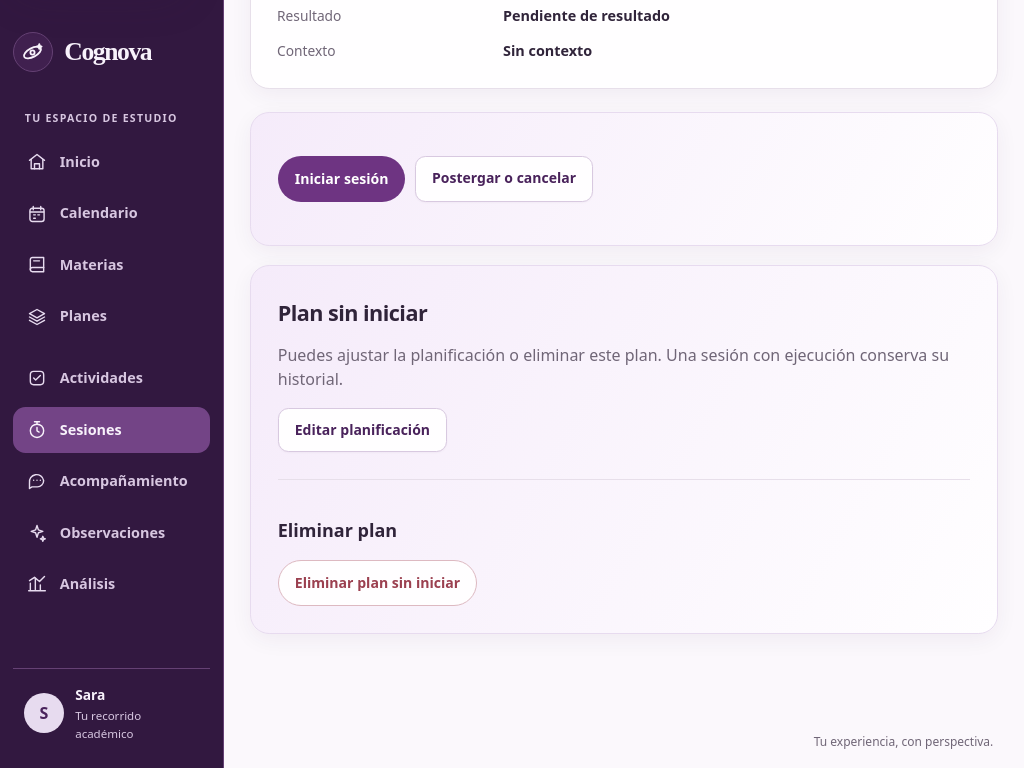
Test: safe study plan deletion › preserves a record and explains the history conflict when delete returns 409
The image size is (1024, 768).
(page scrolled)
Click the button "Eliminar plan sin iniciar": (378, 583) [278,560,477,606]
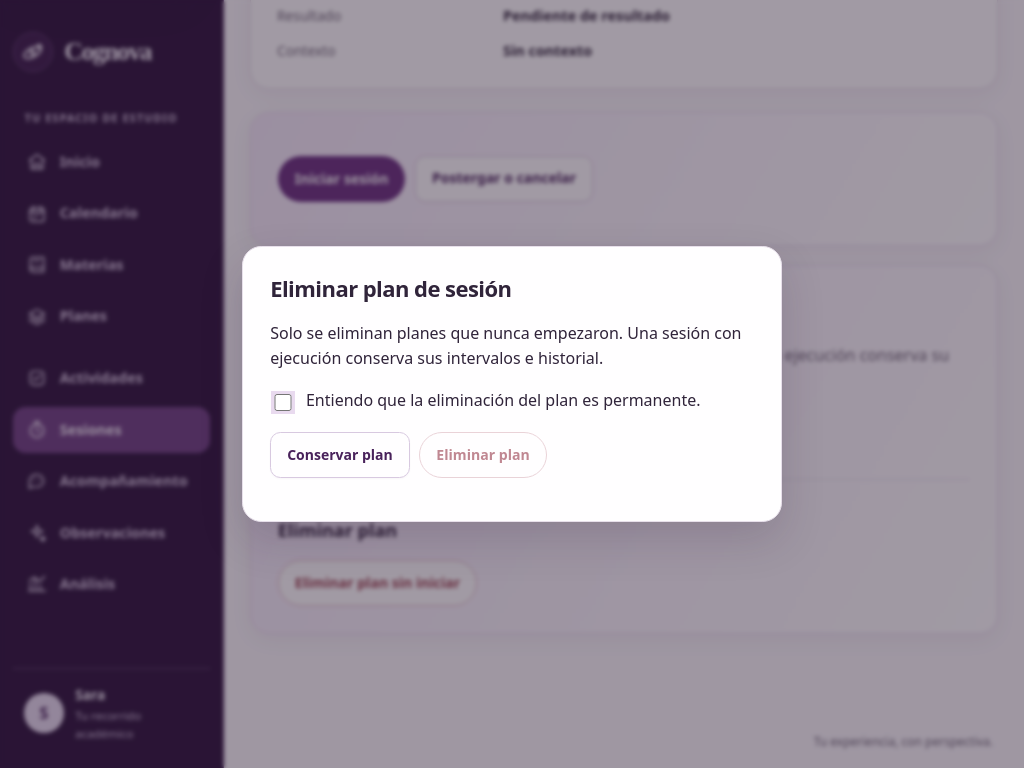
Click the checkbox labelled "Entiendo que la eliminación del plan es permanente.": (283, 402) [274,394,292,411]
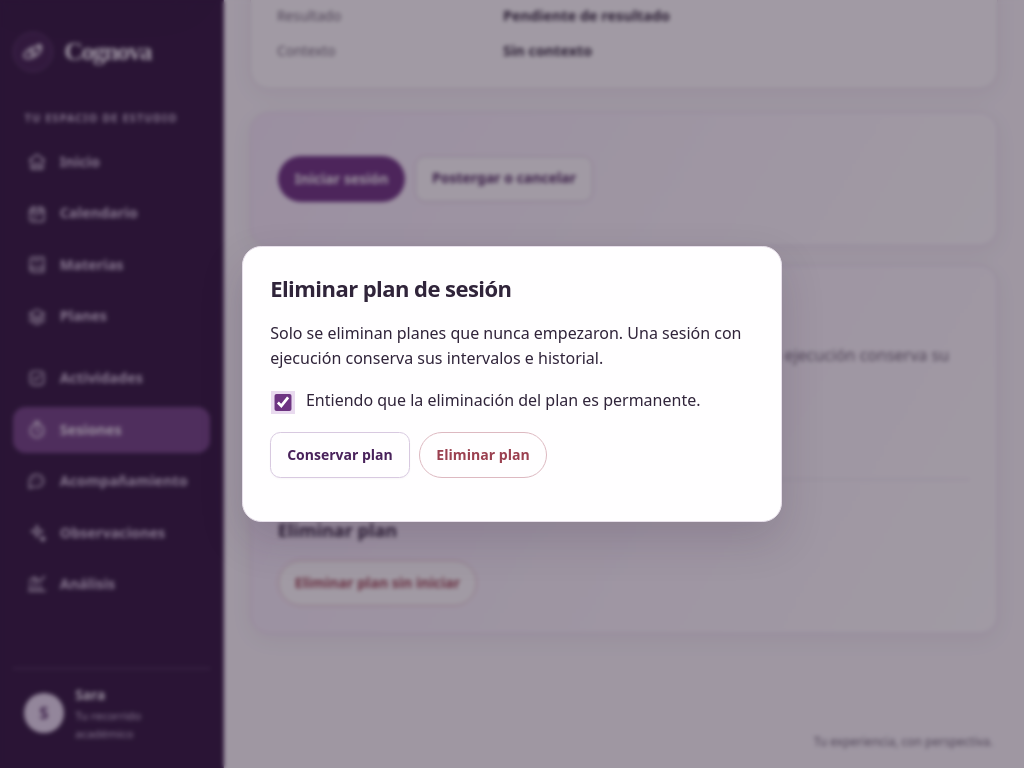
Click the button "Eliminar plan": (483, 455) [419,432,547,478]
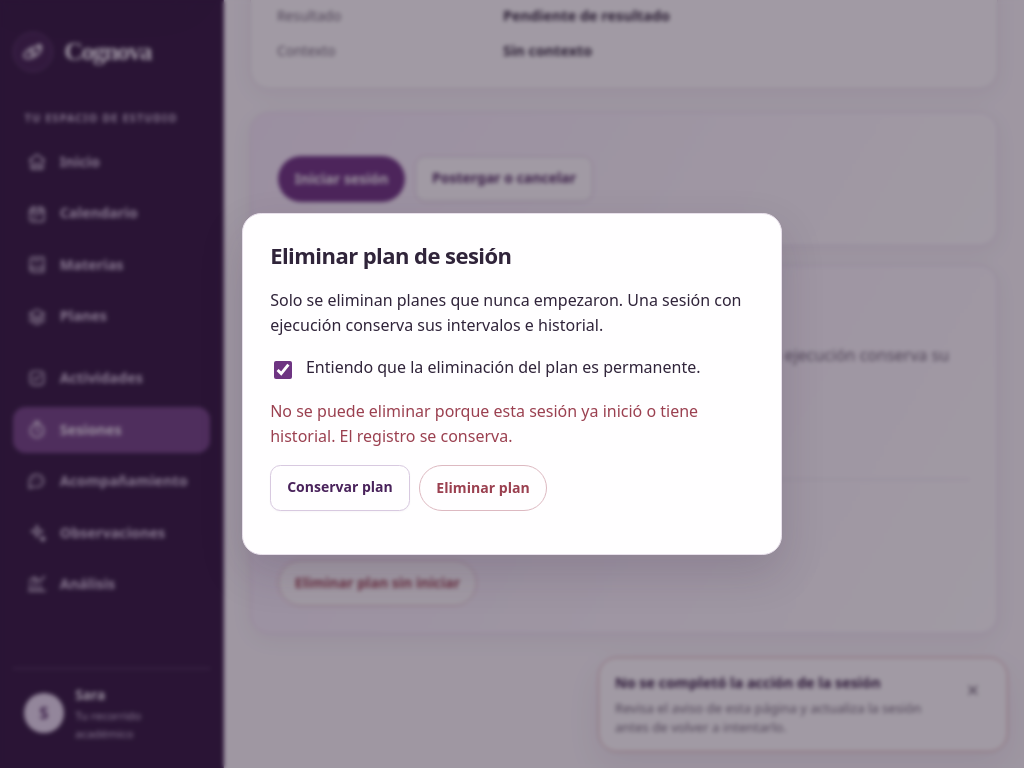
Result: the dialog is shown at [242,213,782,555]
Result: the message shows "ya inició o tiene historial" at [270,400,698,447]
